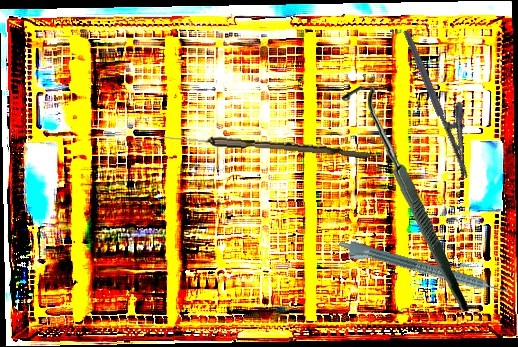Handpiece: (335, 237, 510, 305)
Hook Surgical: (329, 85, 482, 312)
Needle Holder: (402, 21, 489, 180)
Surgical Spoon: (153, 132, 372, 159)
